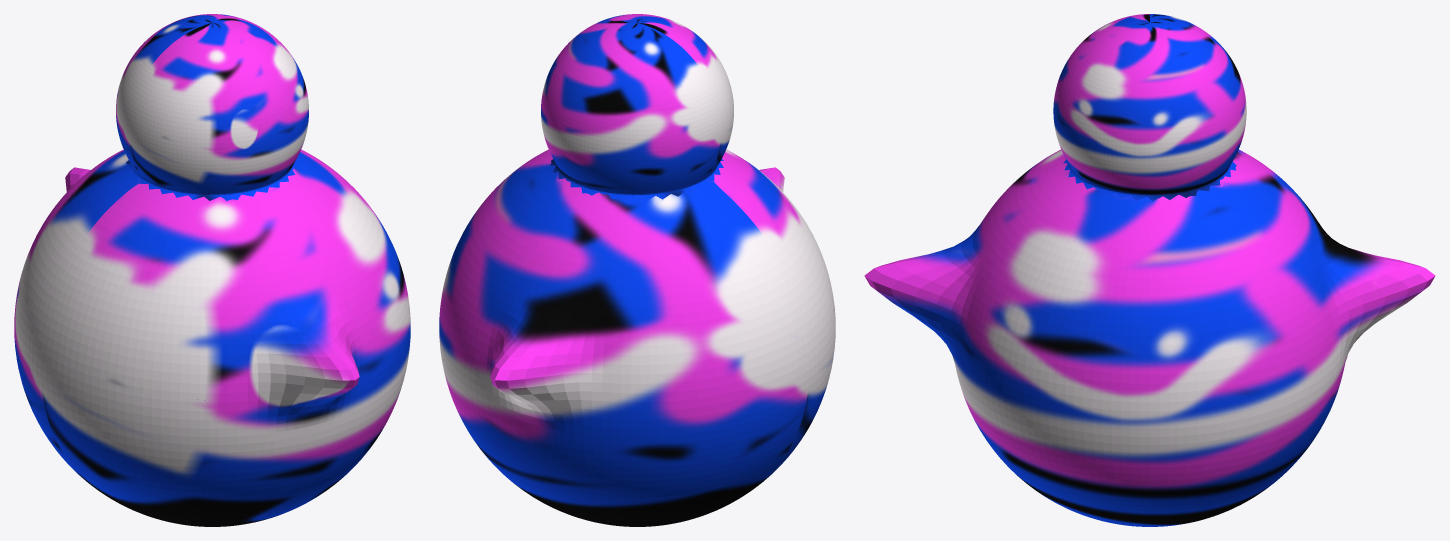
The model's file is kirby.glb.
The picture shows the model from 3 angles, left to right: view 1: azimuth 30°, elevation 25°; view 2: azimuth 150°, elevation 25°; view 3: azimuth 270°, elevation 25°; orthographic projection.
Visible parts, largest first — view 1: Sphere.001; view 2: Sphere.001; view 3: Sphere.001.
Boxes of the visible parts, x1,y1,x2,y2 form: Sphere.001: (14,14,410,526); Sphere.001: (439,14,835,526); Sphere.001: (864,14,1435,526).
Size of the model in its own units: 1.97 by 2.67 by 2.84.
Materials: 1 (1 with a texture image).
